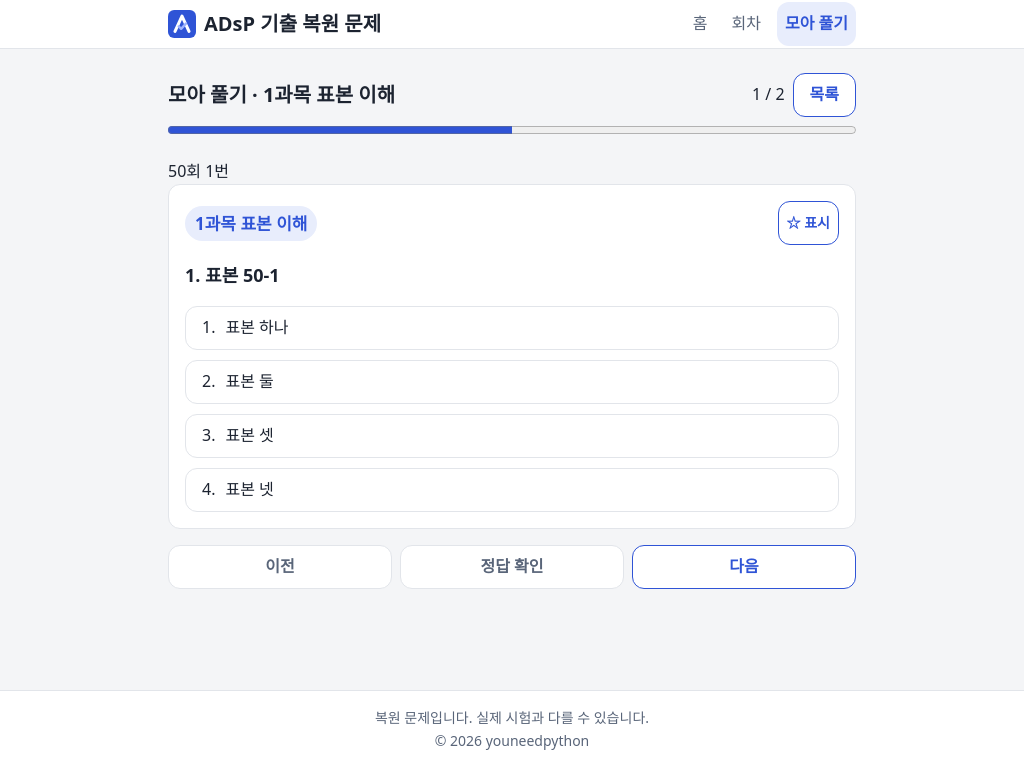
Test: unavailable persistence keeps progress through navigation and displays notice
The width and height of the screenshot is (1024, 768).
Expected: the heading "모아 풀기 · 1과목 표본 이해" is shown, [168,81,395,108]
Click the button "2. 표본 둘".
click(250, 381)  # box [185,360,839,404]
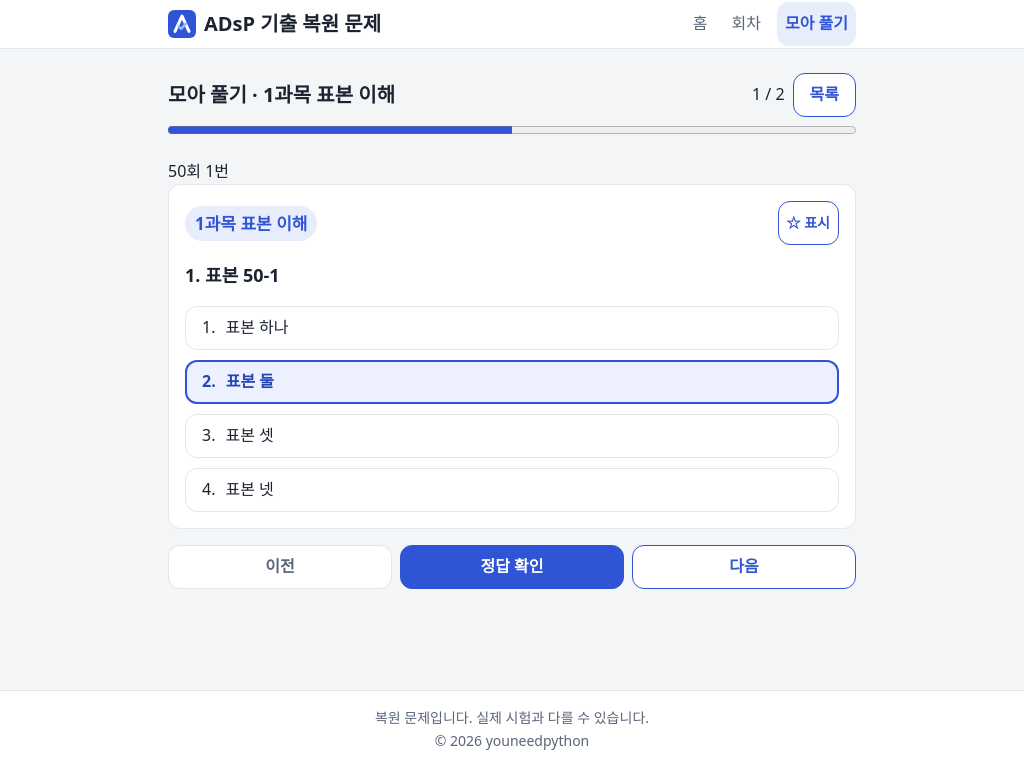
Click the button "정답 확인".
click(512, 567)  # box [400,545,624,589]
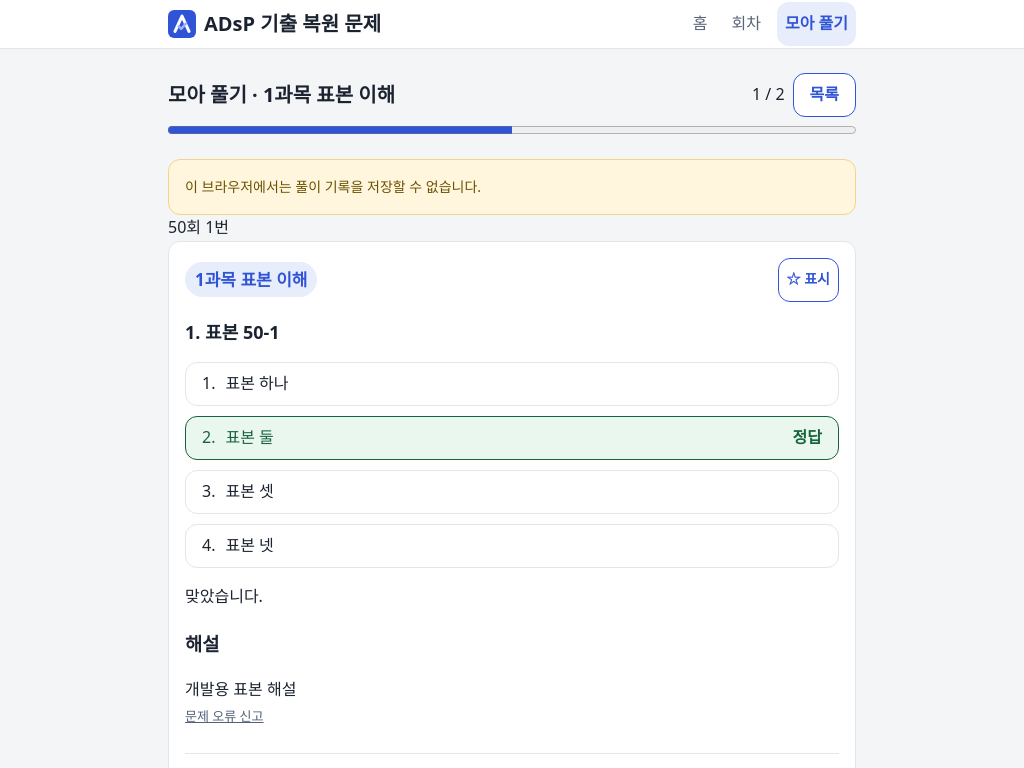
Expected: the text "이 브라우저에서는 풀이 기록을 저장할 수 없습니다." is shown, [168,159,856,215]
Click the link "모아 풀기".
click(816, 24)  # box [777,2,856,46]
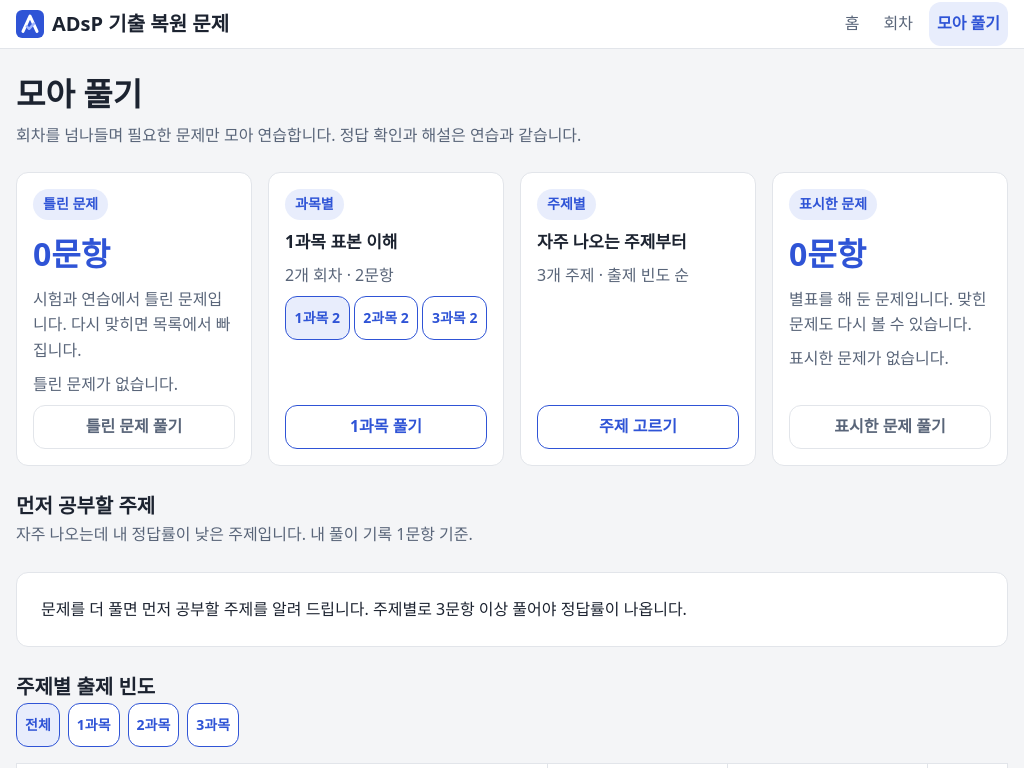
Expected: the text "자주 나오는 주제부터" is shown, [537,230,687,253]
Click the link "1과목 풀기".
click(386, 427)  # box [285,405,487,449]
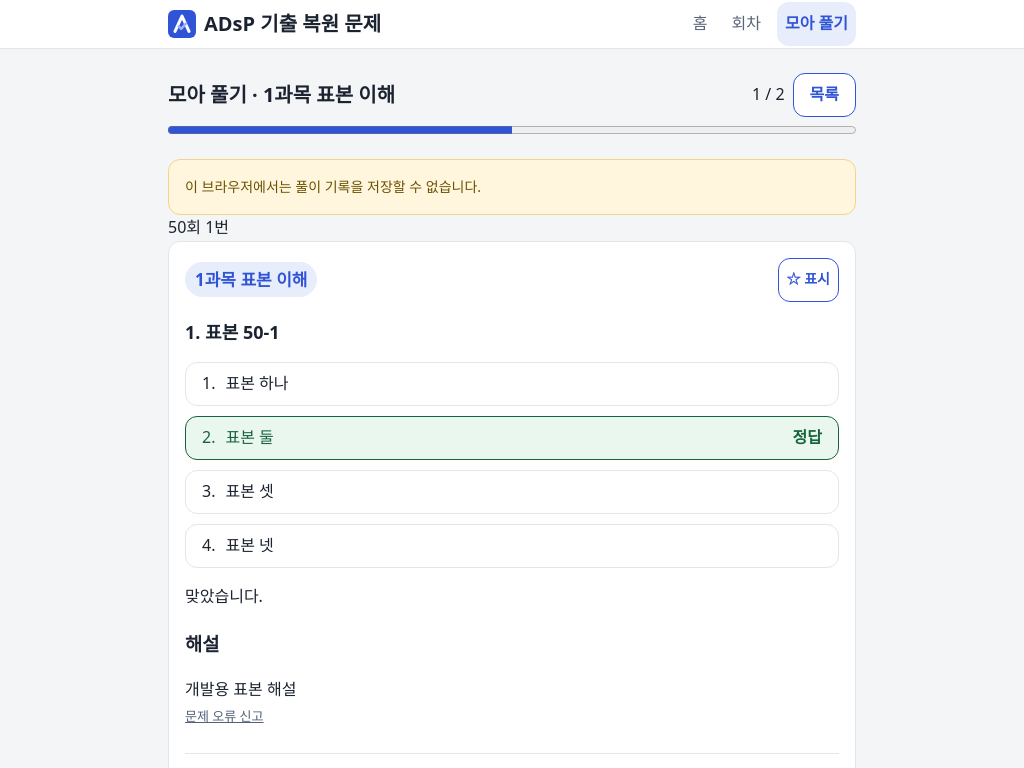
Expected: the message reads "맞았습니다.", [185,585,263,607]
